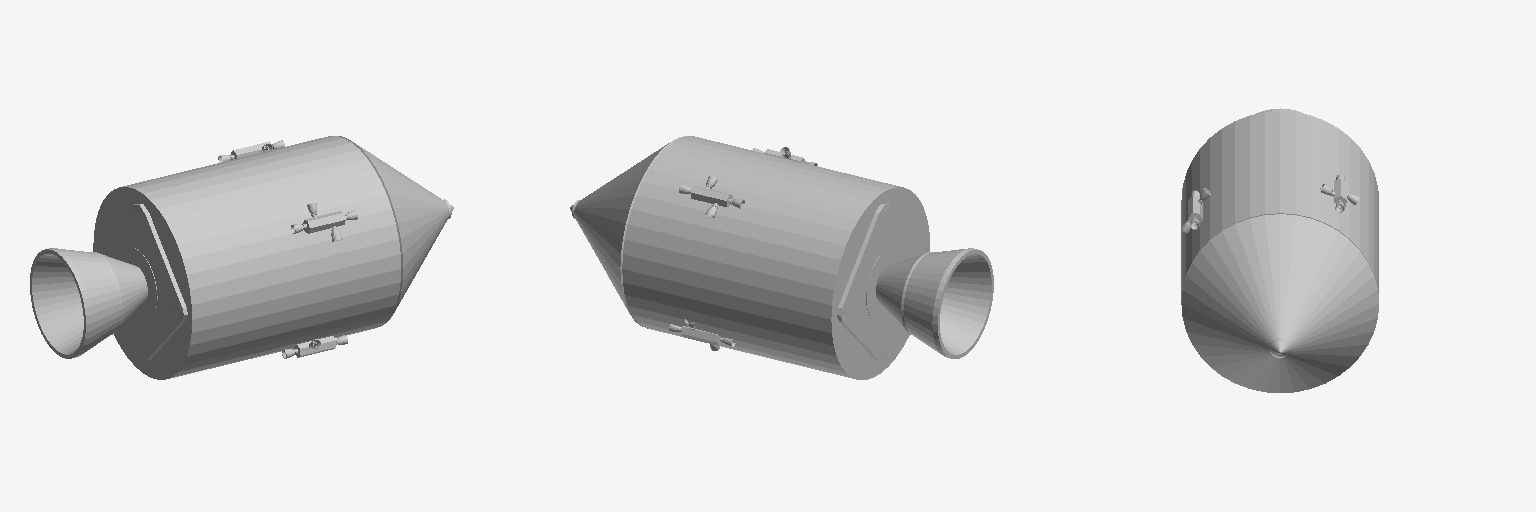
The model's file is apollo 8.obj.
The picture shows the model from 3 angles: view 1: azimuth 30°, elevation 25°; view 2: azimuth 150°, elevation 25°; view 3: azimuth 270°, elevation 25°; orthographic projection.
Bounding box in the file's own units: 0.001 × 0.0004 × 0.0004.